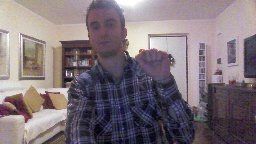Pugno: (133, 48, 172, 81)
